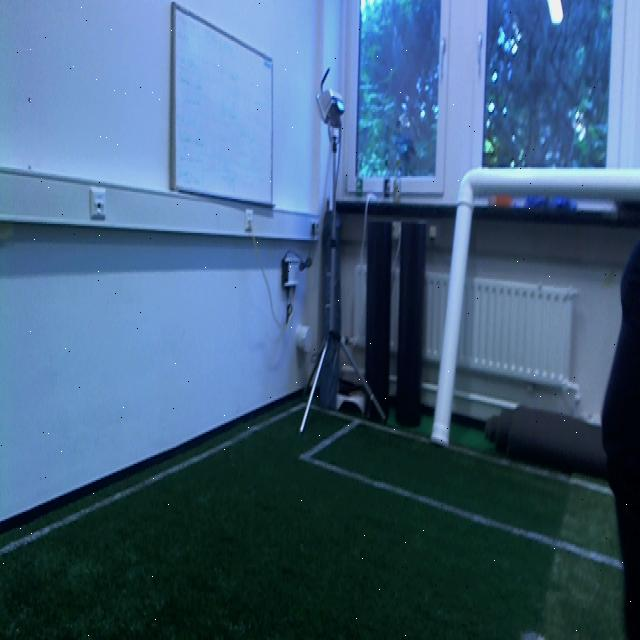goalpost: (438, 101, 480, 438)
